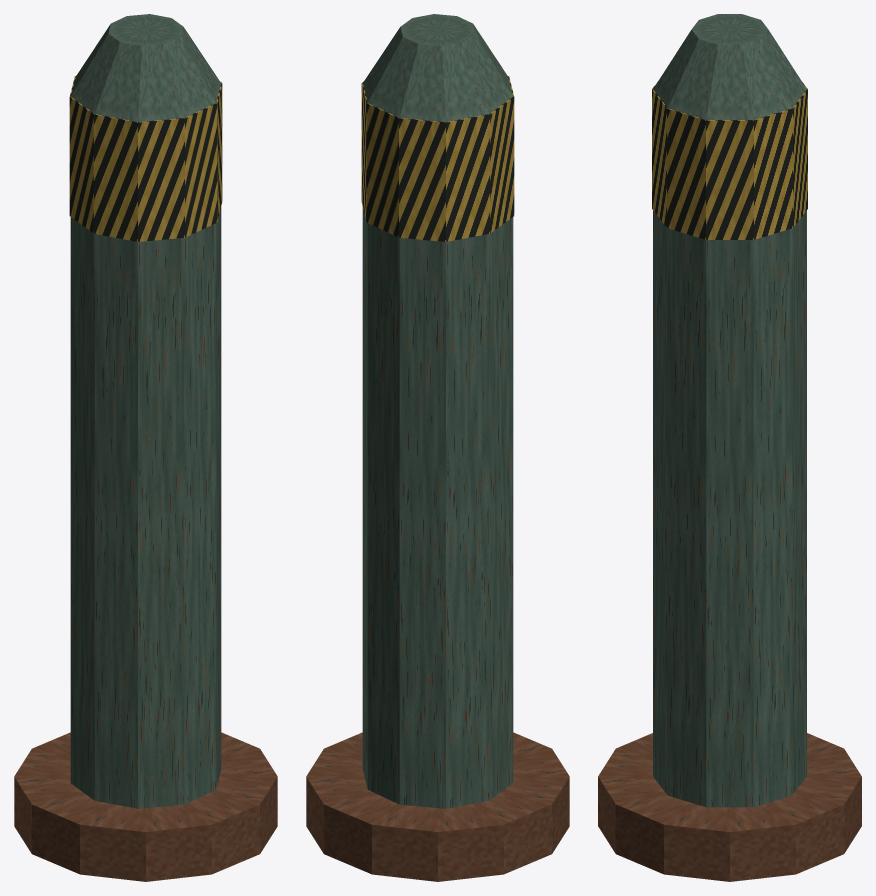
Rendered from Bollard.obj.
The picture shows the model from 3 angles, left to right: view 1: azimuth 30°, elevation 25°; view 2: azimuth 150°, elevation 25°; view 3: azimuth 270°, elevation 25°; orthographic projection.
Visible parts, largest first — view 1: Bollard; view 2: Bollard; view 3: Bollard.
Part boxes in pixels (box(x1,y1,x2,y2)): Bollard: box(14, 14, 277, 881); Bollard: box(306, 14, 569, 881); Bollard: box(598, 14, 861, 881).
Size of the model in its own units: 0.24 by 0.8 by 0.24.
3 materials, 3 textured.
